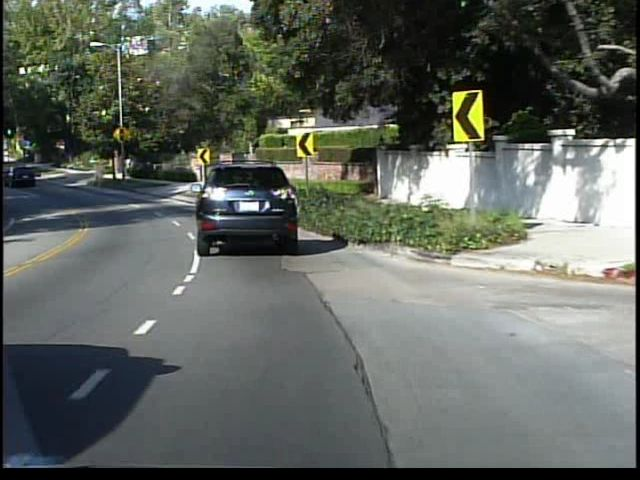car: (193, 158, 305, 259), (7, 162, 35, 186)
